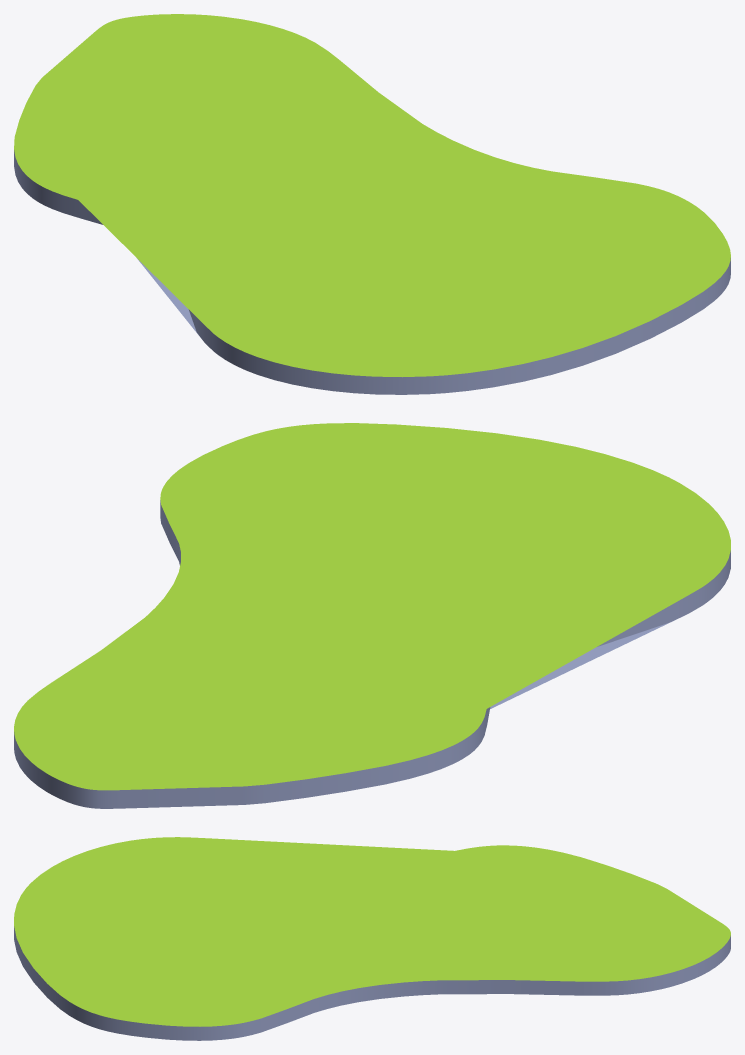
3 renders of one model, top to bottom at view 1: azimuth 30°, elevation 25°; view 2: azimuth 150°, elevation 25°; view 3: azimuth 270°, elevation 25°, orthographic. The views are drawn at different scales.
Parts seen in each view (by area): view 1: Extrude_1; view 2: Extrude_1; view 3: Extrude_1.
Boxes of the visible parts, x1,y1,x2,y2 form: Extrude_1: [14, 14, 730, 394]; Extrude_1: [14, 423, 730, 808]; Extrude_1: [14, 837, 730, 1040].
Bounding box in the file's own units: 870 × 30 × 1390.
